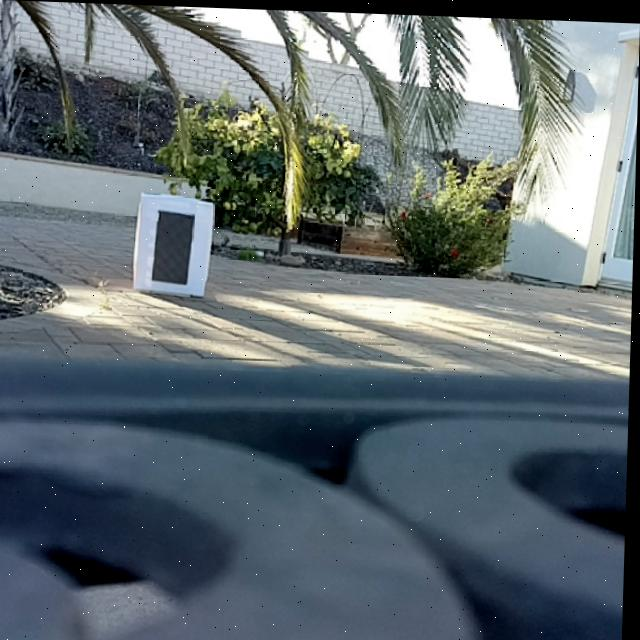led: (151, 209, 195, 284)
